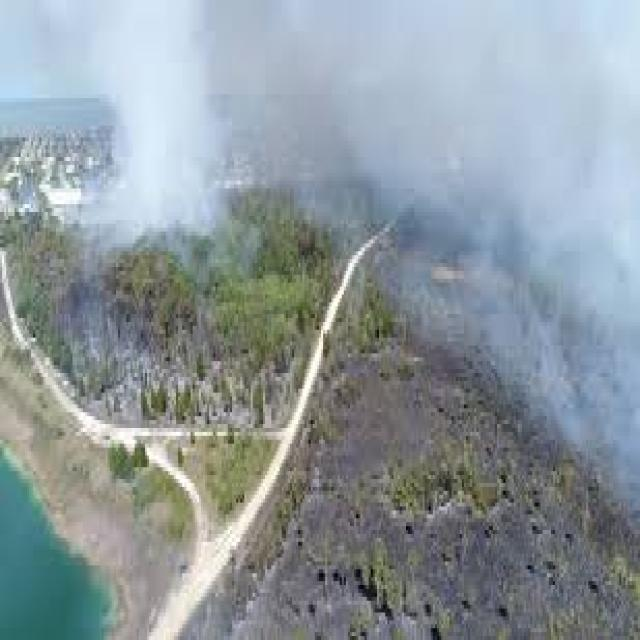Smoke: (78, 4, 296, 262), (298, 0, 466, 334), (467, 1, 640, 281), (468, 280, 640, 532)
